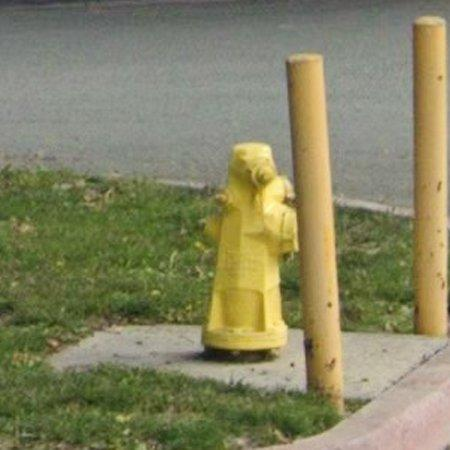a fire hydrant: (202, 143, 299, 352)
